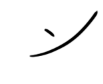n: (27, 4, 101, 60)
